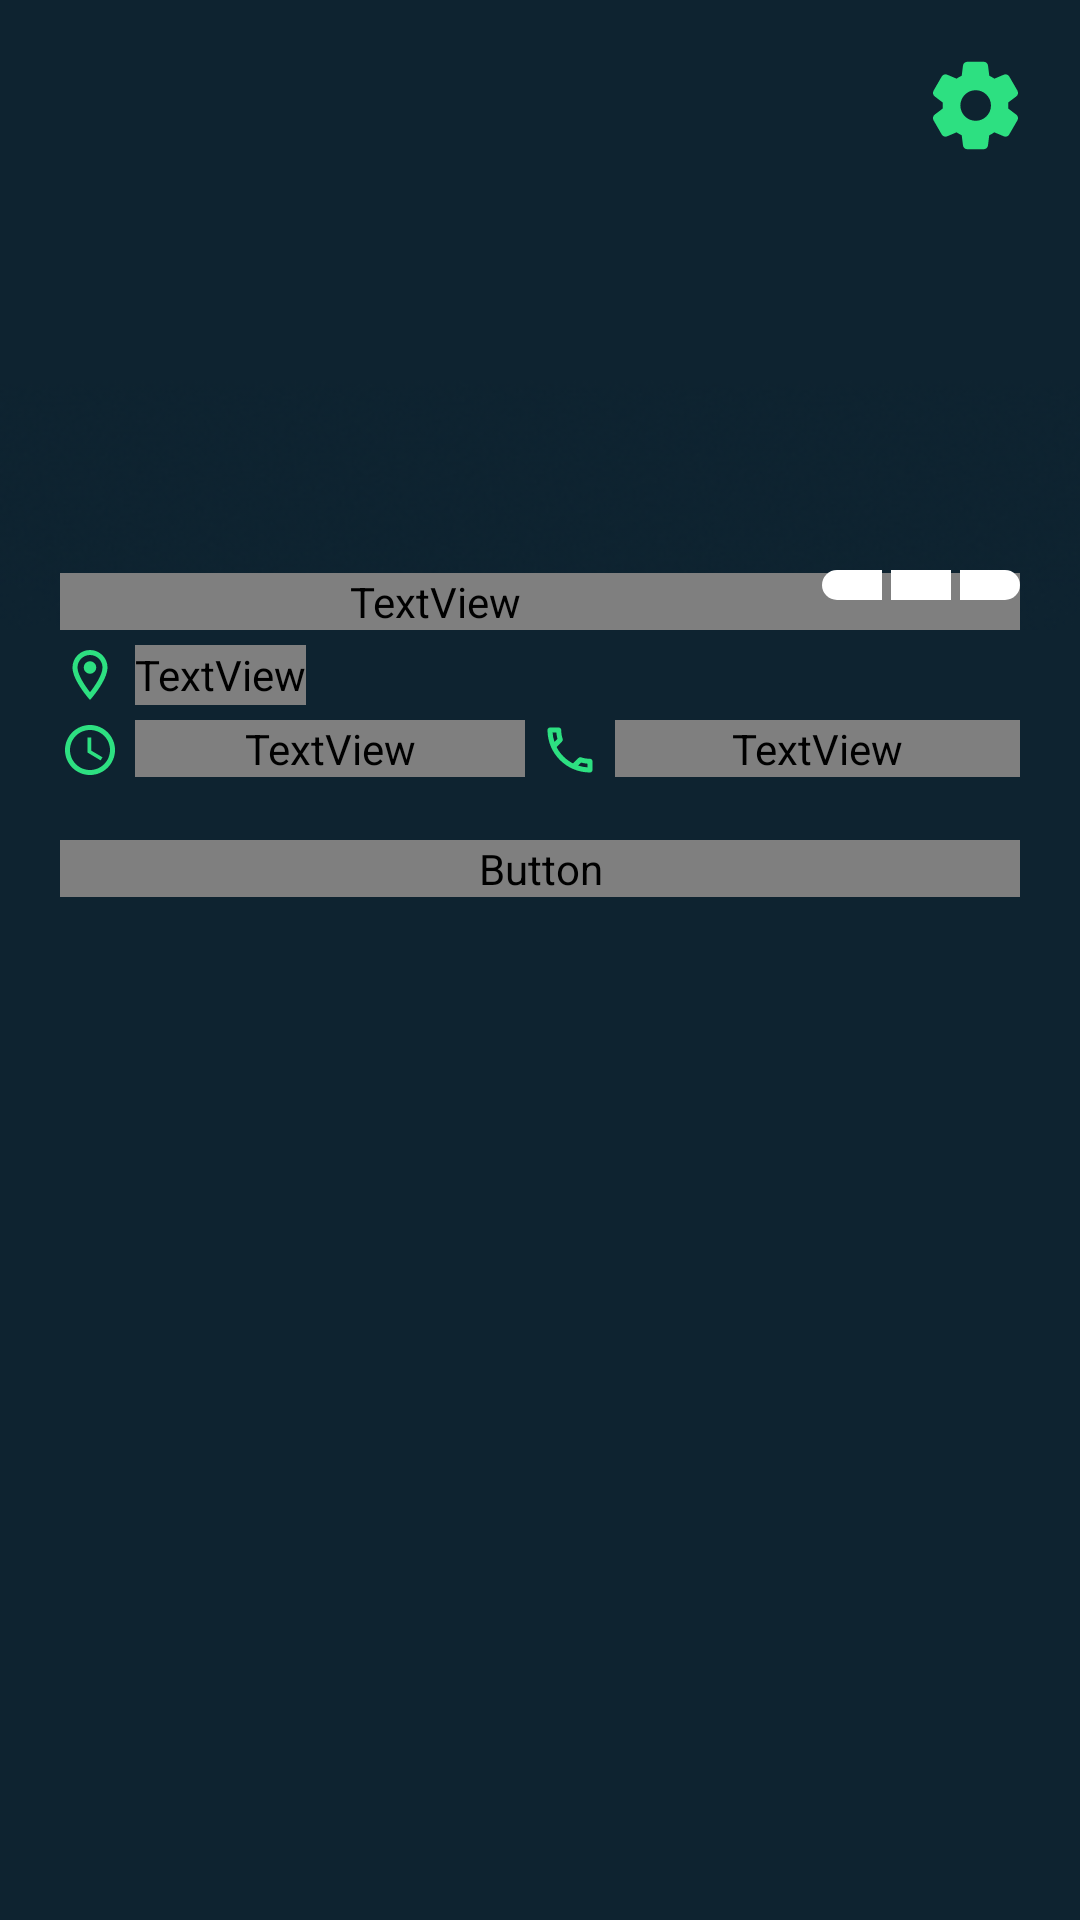

Icon click points for this 1080px×1920px phone screenshot, format (x,y):
location: (90,675)
phone: (570,750)
settings: (975,105)
time: (90,750)
